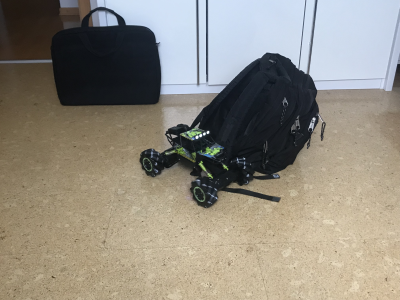remote control car: (139, 119, 255, 209)
